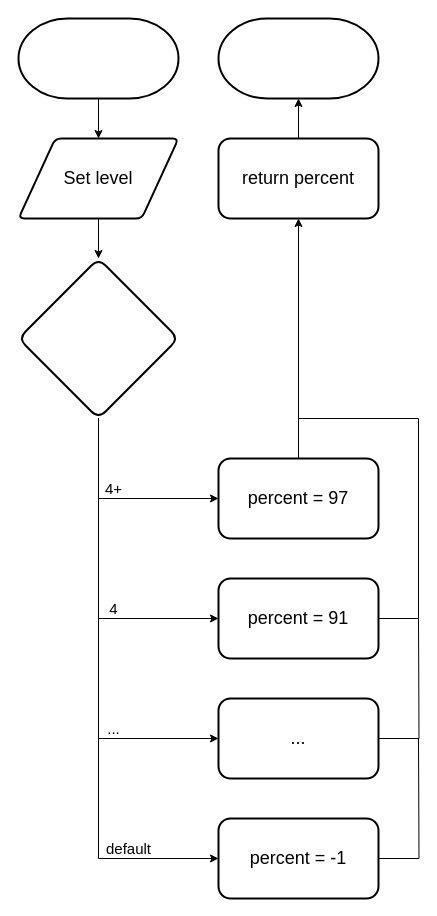
This 437x916 diagram has some shape labels left out. Here are the shapes that lost their labels. From the top down, the centre of each, then its label:
At point (98, 58): "Start".
At point (298, 58): "Stop".
At point (98, 338): "level".
